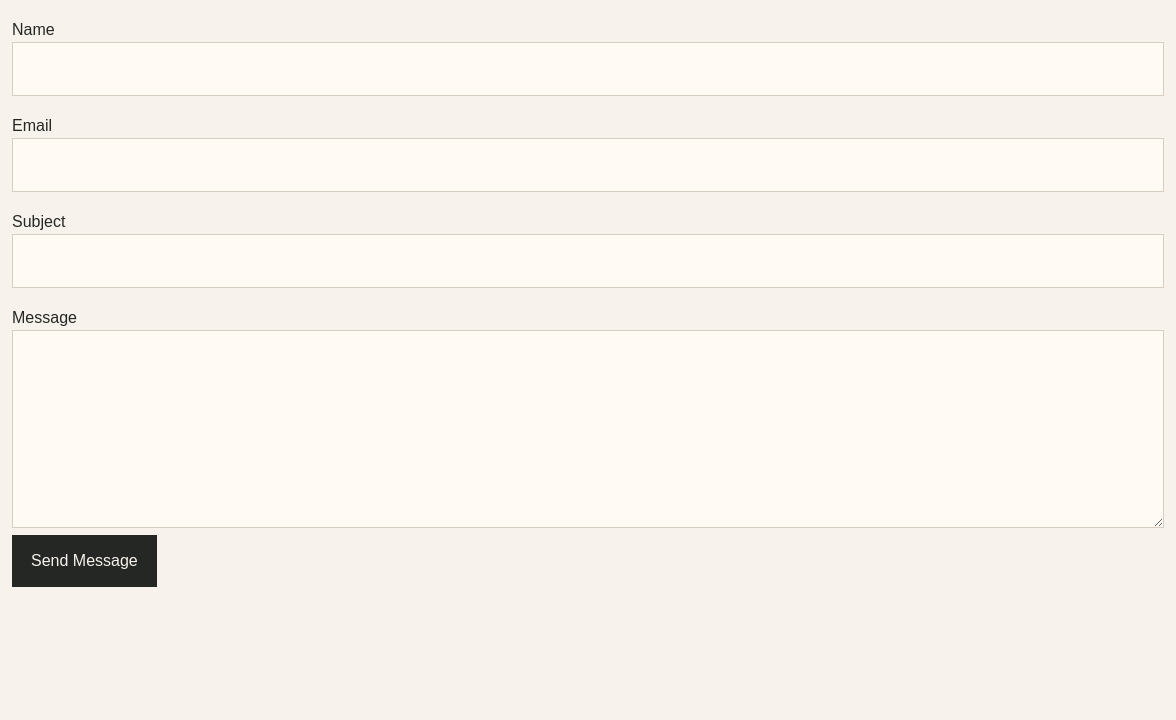
Test case: contact form error mapping › sends JSON with the expected payload and highlights the server field
The image size is (1176, 720).
Type "Ada Lovelace" into the field labelled "Name" at (588, 69), box x1=12 y1=42 x2=1164 y2=96
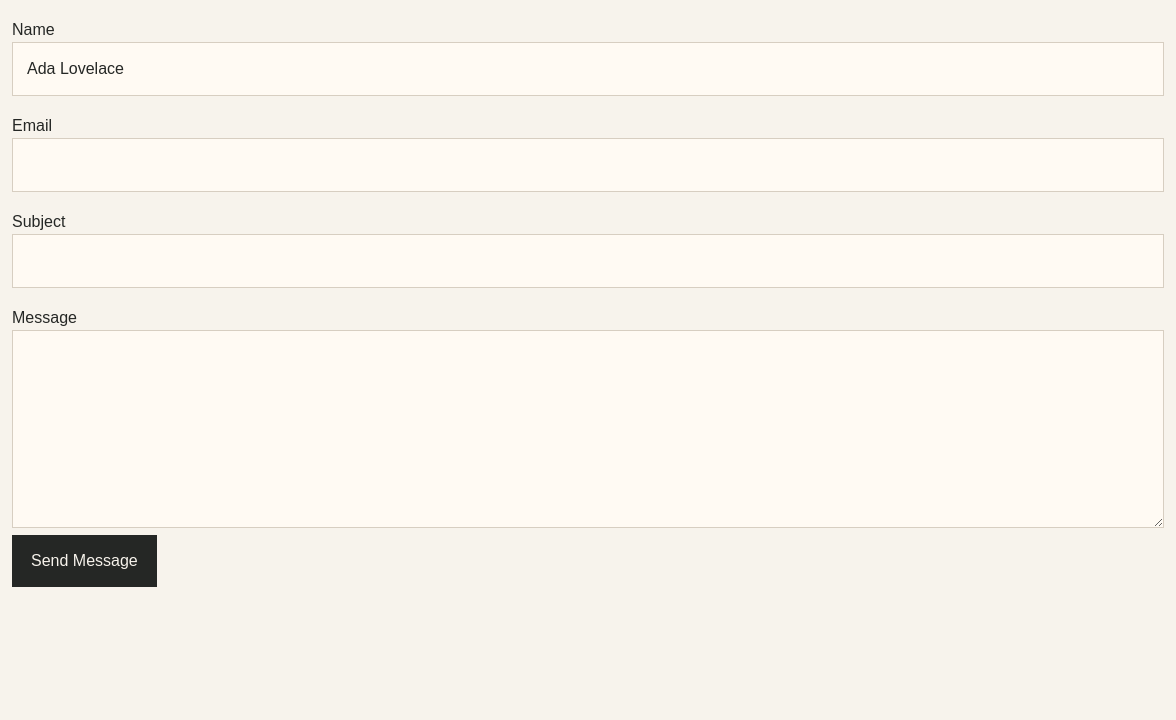
Type "ada@example.com" into the field labelled "Email" at (588, 165), box x1=12 y1=138 x2=1164 y2=192
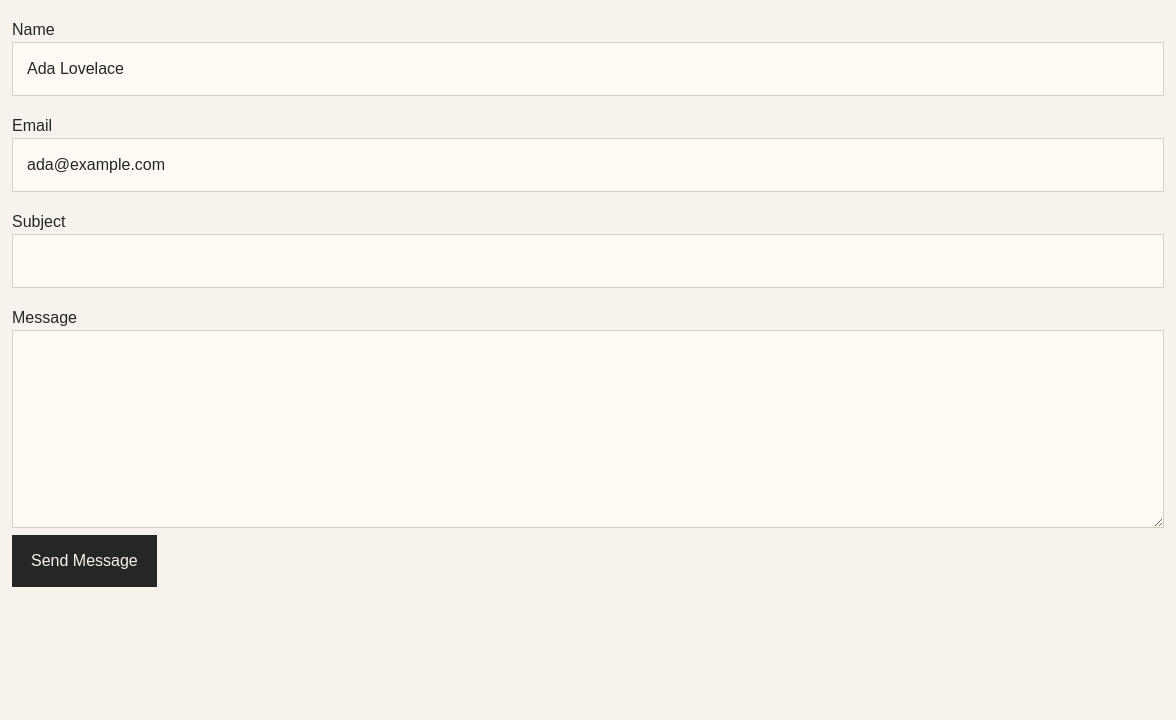
Type "Speaking inquiry" into the field labelled "Subject" at (588, 261), box x1=12 y1=234 x2=1164 y2=288
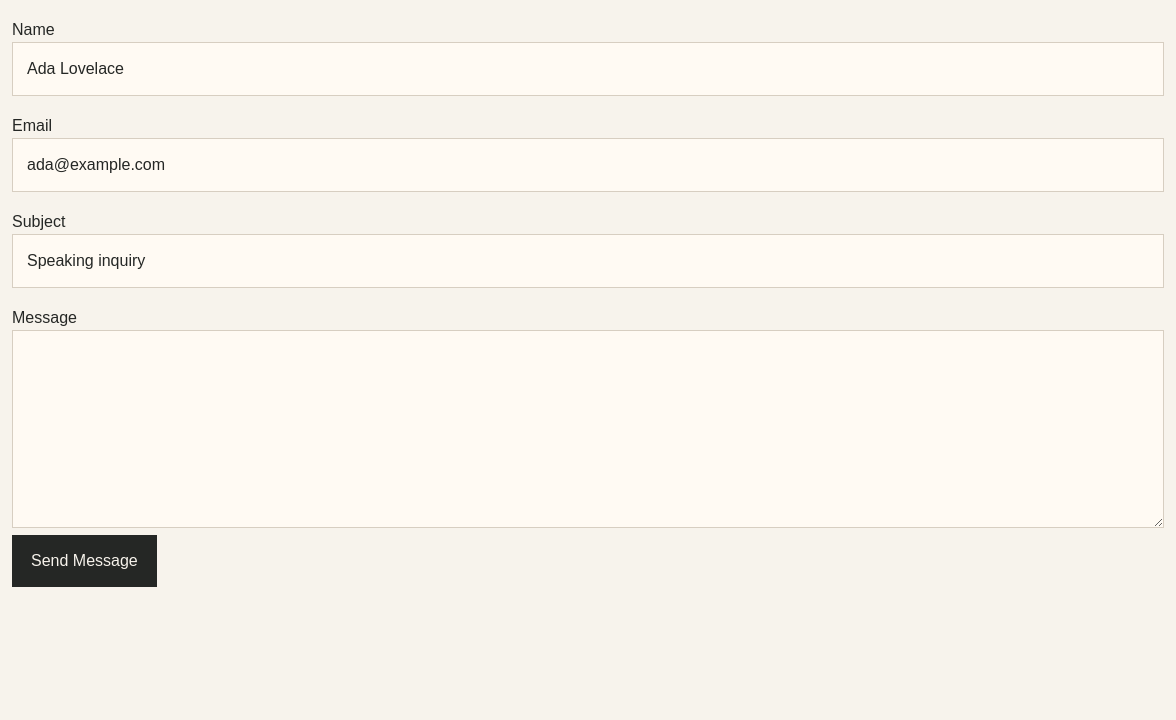
Type "Could we discuss a conference session?" into the text box labelled "Message" at (588, 429), box x1=12 y1=330 x2=1164 y2=528
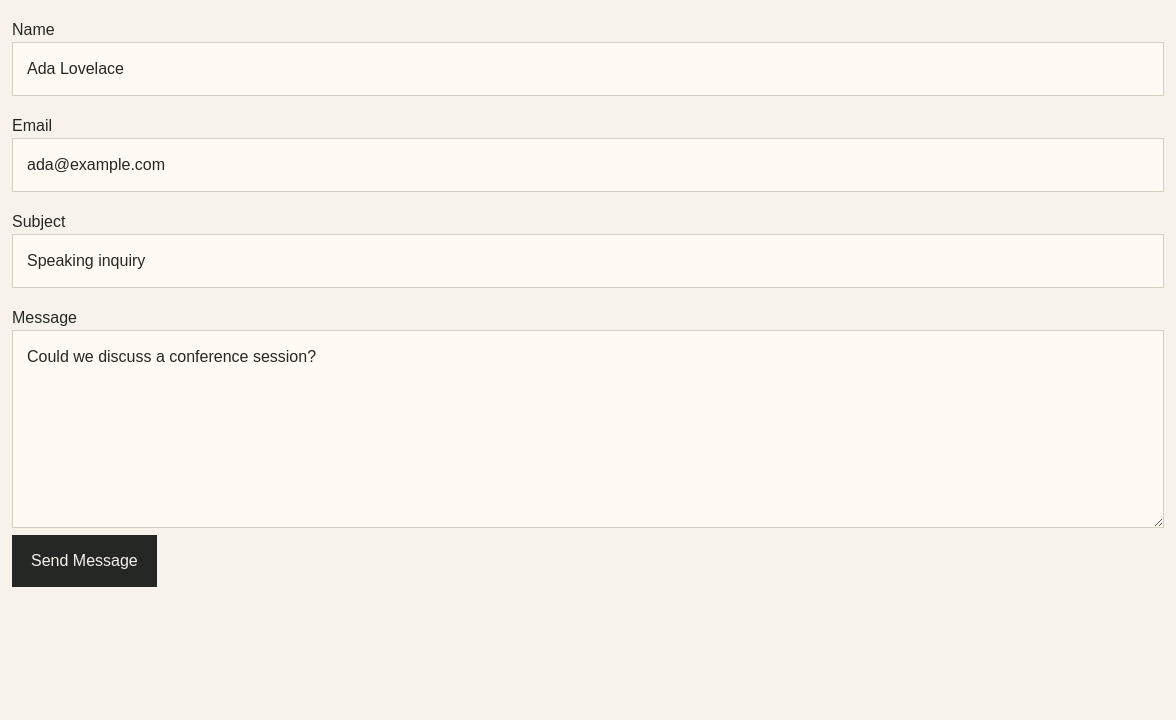
Submit the form "Send Message"
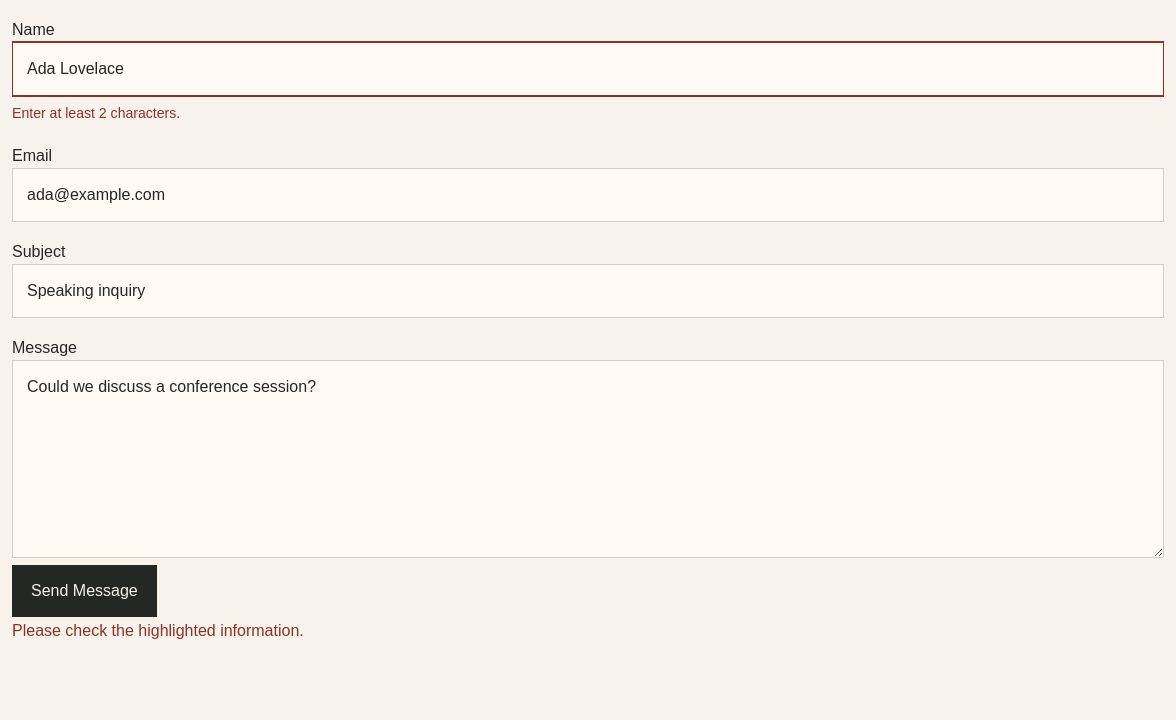
Expected: the text "Enter at least 2 characters." is shown, x1=12 y1=105 x2=180 y2=121
